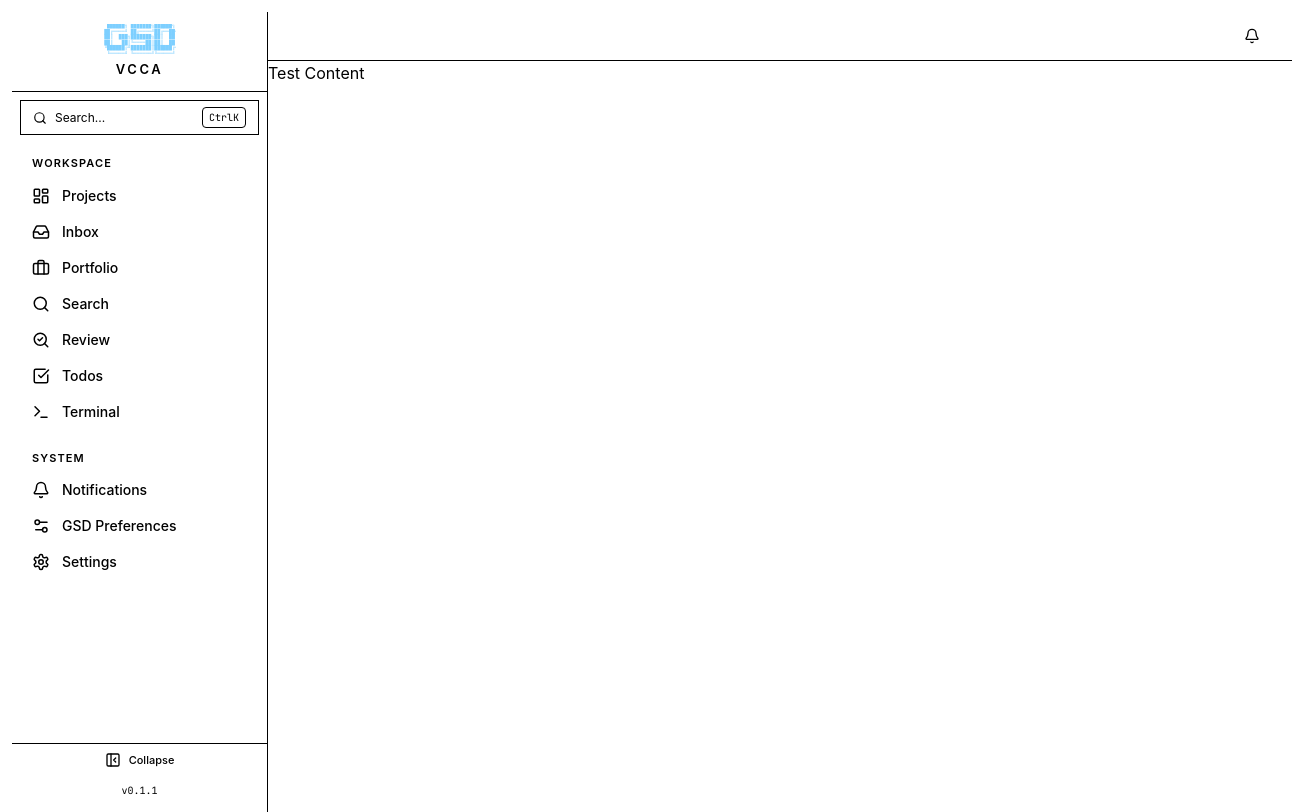
Test: MainLayout - Collapsible Sidebar › when collapsed, navigation item text is hidden
Expected: the text "Projects" is shown, [62,186,117,206]
Click the button with aria-label "Collapse sidebar" at (140, 760), box [12,744,267,776]
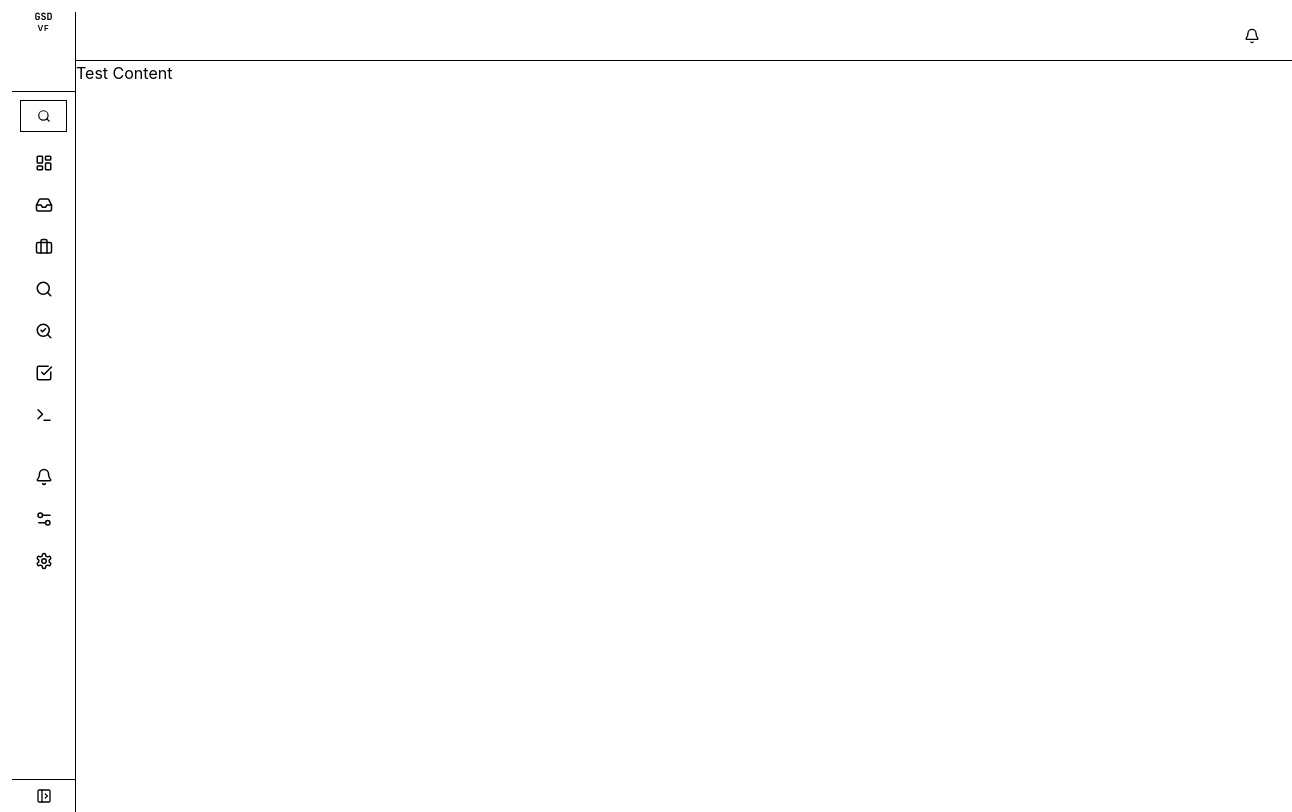
Expected: the button "Projects" is gone
